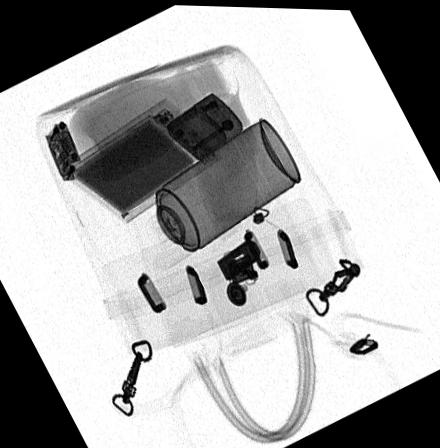Lighter: (166, 88, 244, 162)
Powerbank: (58, 94, 224, 222)
Sprayer: (124, 117, 301, 271)
